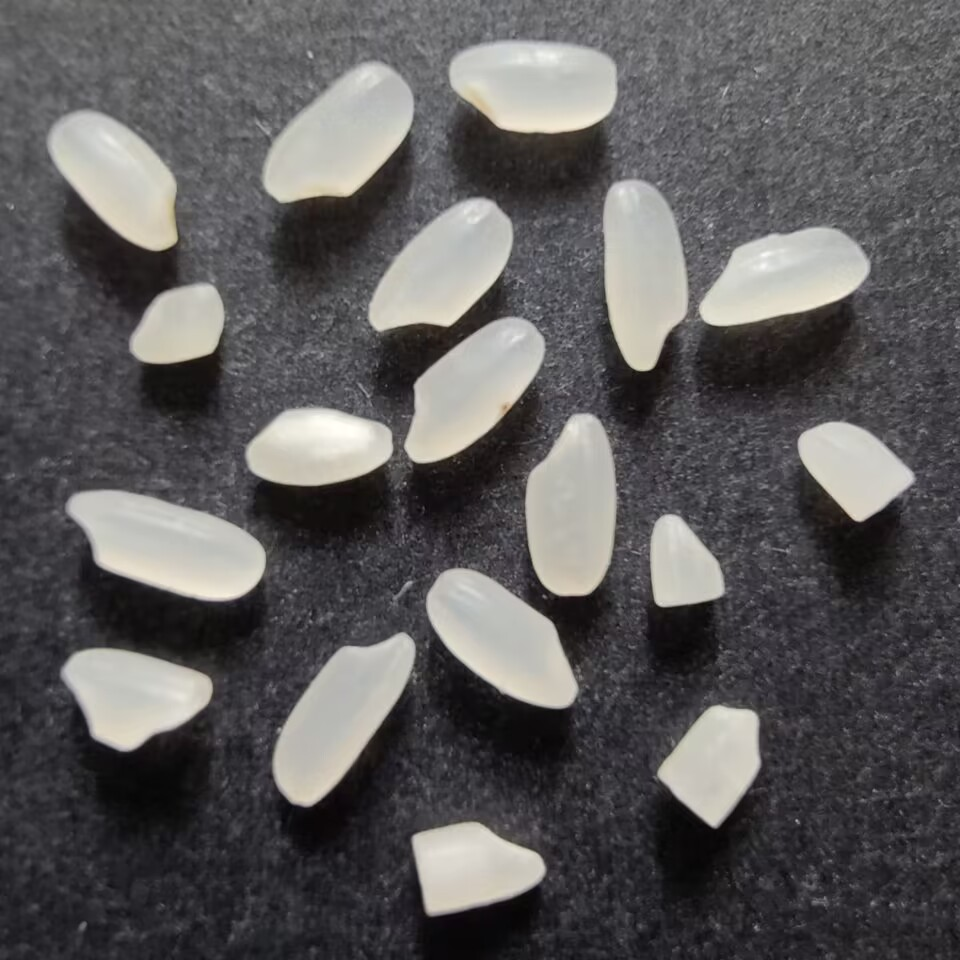broken: (56, 645, 220, 756), (653, 700, 770, 830), (408, 817, 553, 920), (241, 402, 398, 493), (793, 418, 918, 525), (125, 279, 230, 370), (644, 509, 729, 613)
rice: (275, 626, 416, 807), (56, 488, 272, 604), (260, 58, 419, 206), (421, 566, 582, 712), (401, 313, 548, 465), (366, 194, 516, 336), (42, 109, 186, 253), (694, 222, 878, 329), (521, 408, 621, 599), (597, 176, 690, 376), (441, 37, 626, 137)
